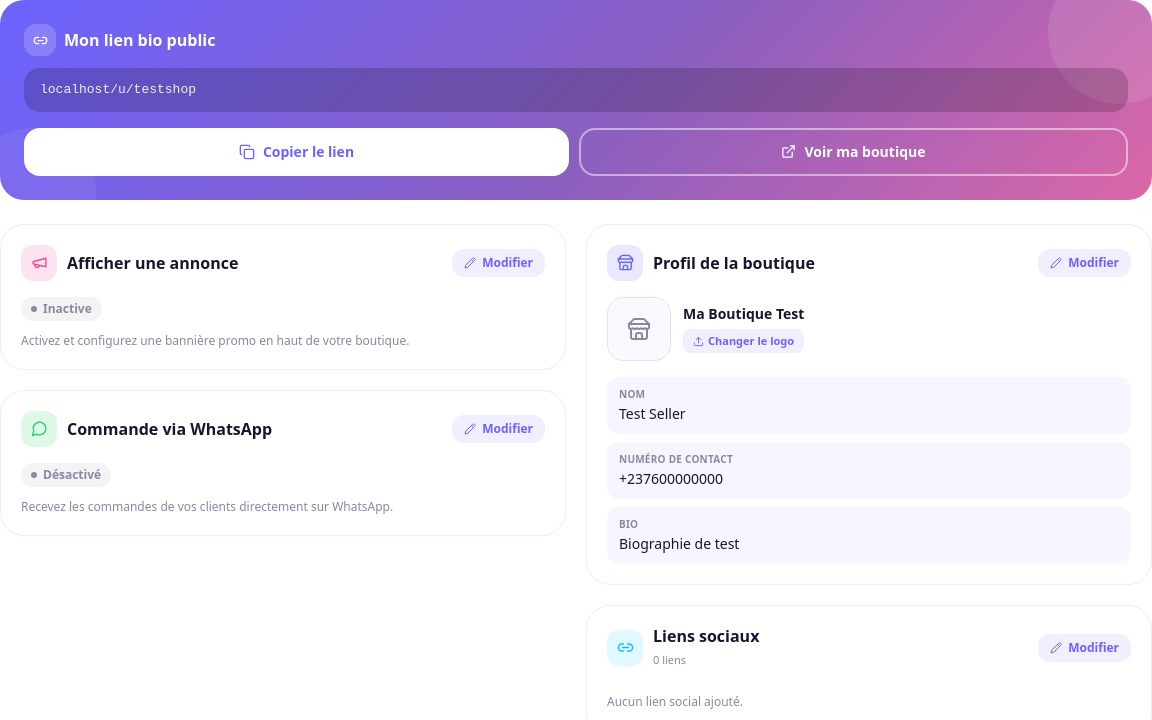
Test: BioLink — section Profil › le bouton "Annuler" ferme le mode édition
Click the button "Modifier" in the row of "Profil de la boutique" at (1085, 262), box [1038,248,1131,276]
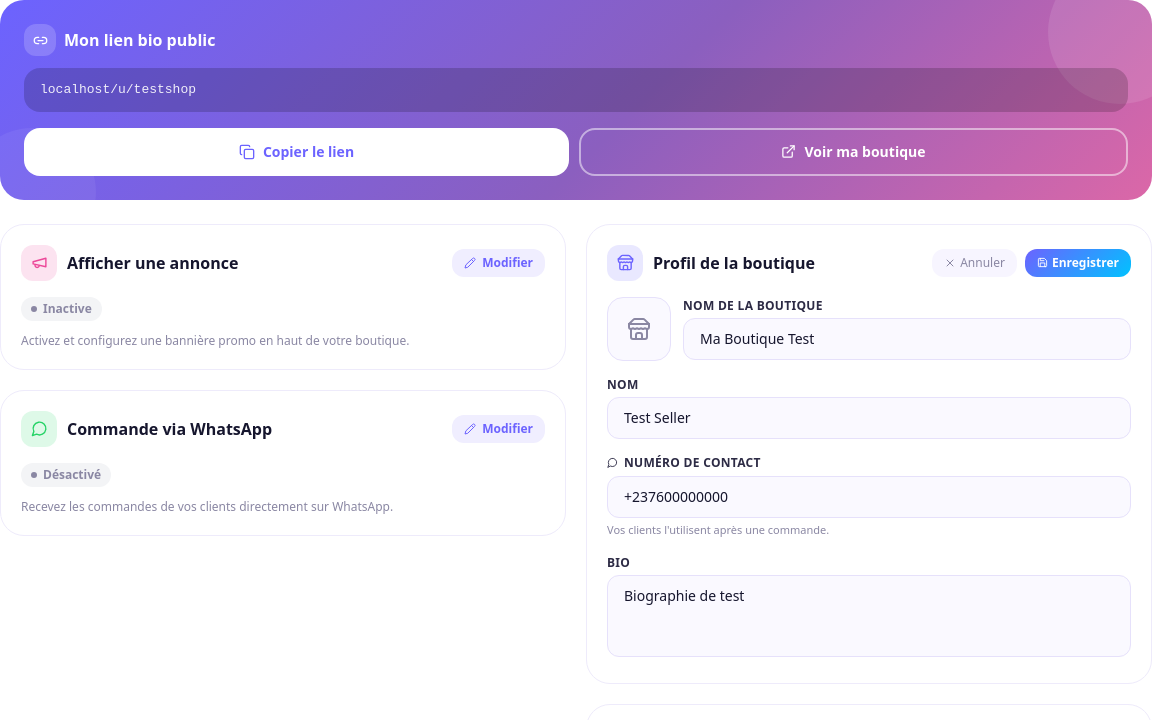
// Mode édition actif → trouver "Annuler"
Click the button "Annuler" at (975, 262), box [932,248,1017,276]
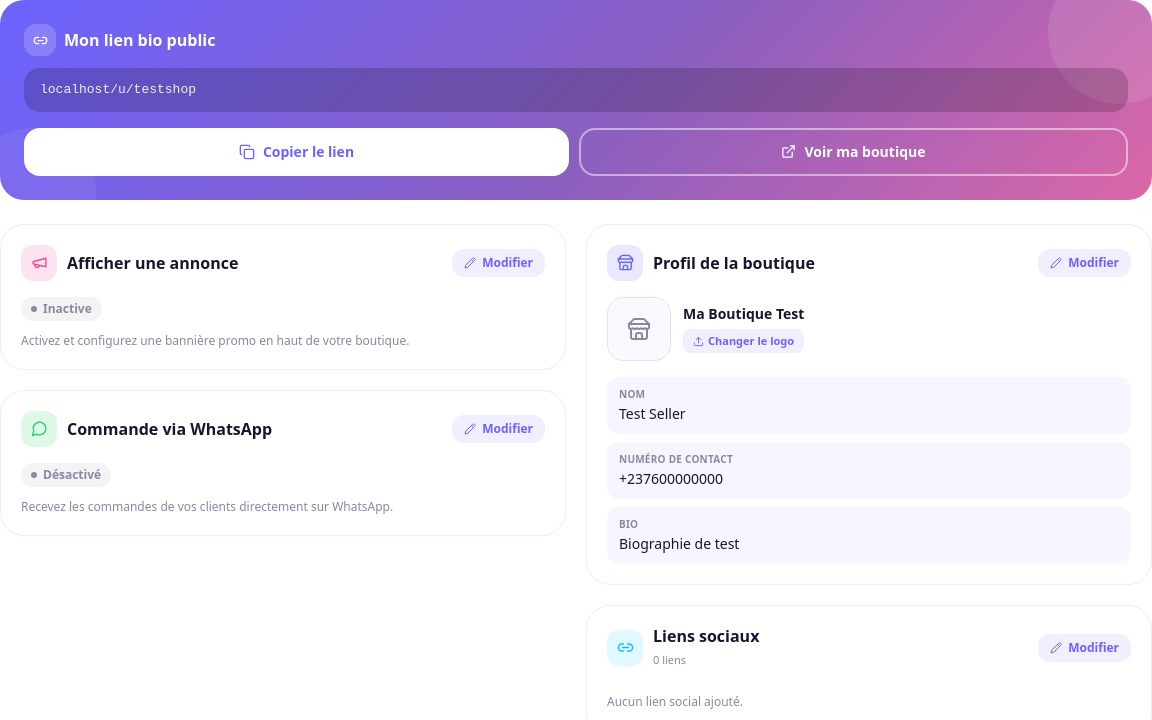
Now no fields are shown
